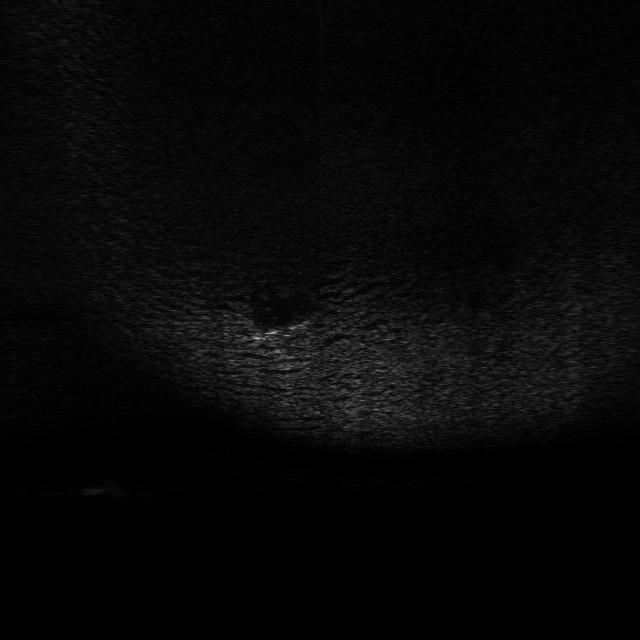plane: (239, 309, 313, 355)
